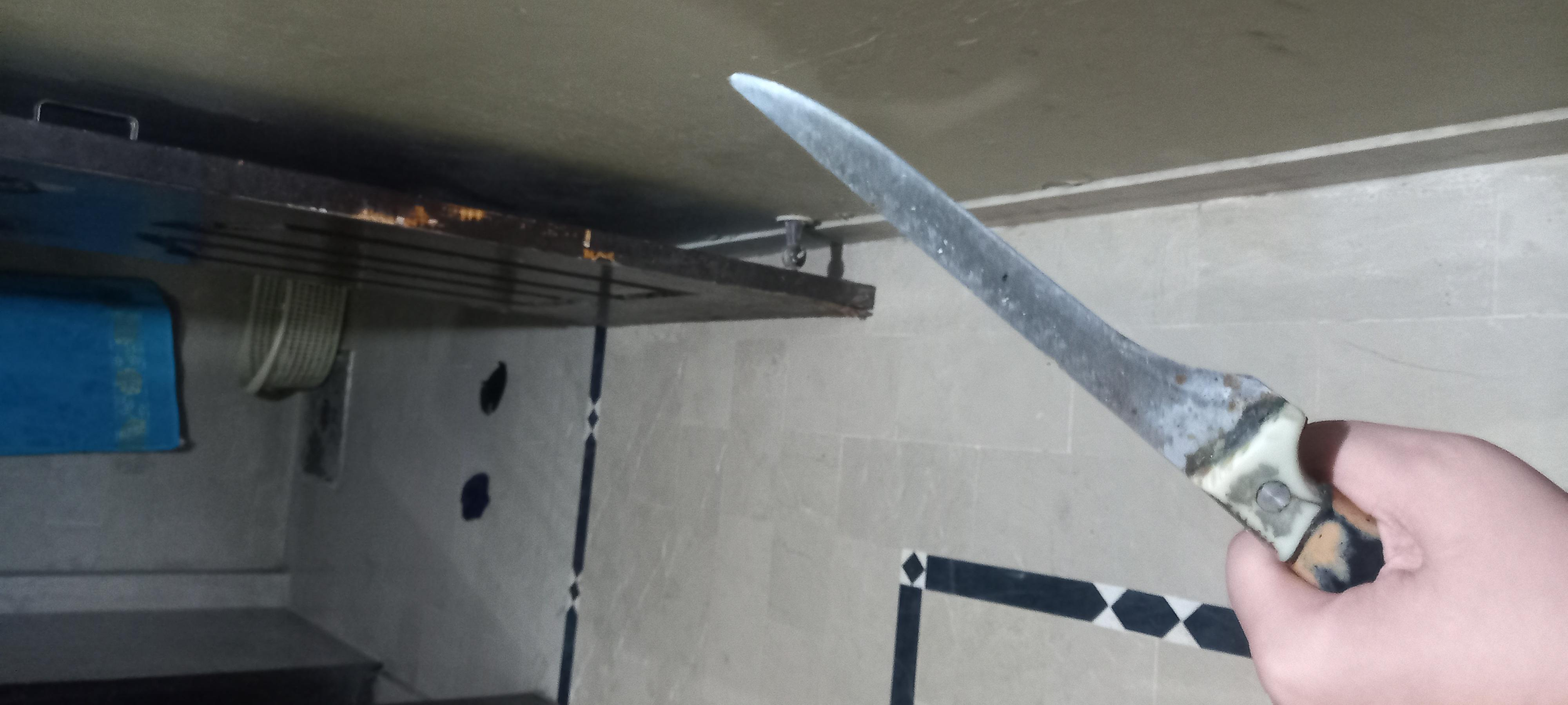knives: (113, 321, 1473, 636)
